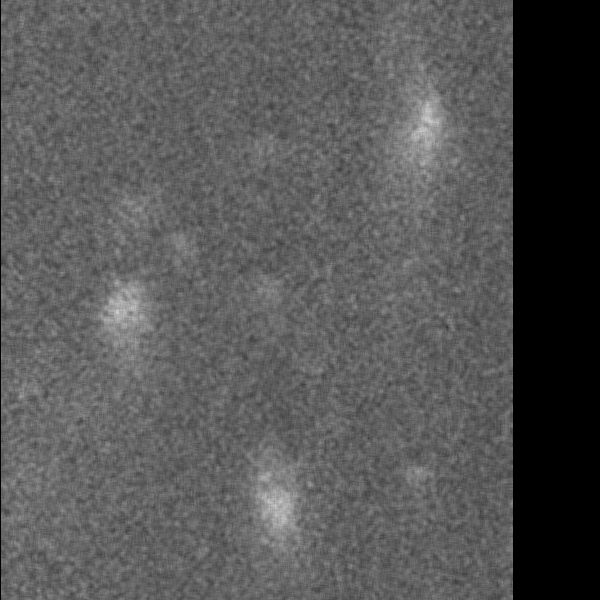spark: (411, 74, 449, 248), (93, 278, 152, 385), (248, 471, 302, 572)
